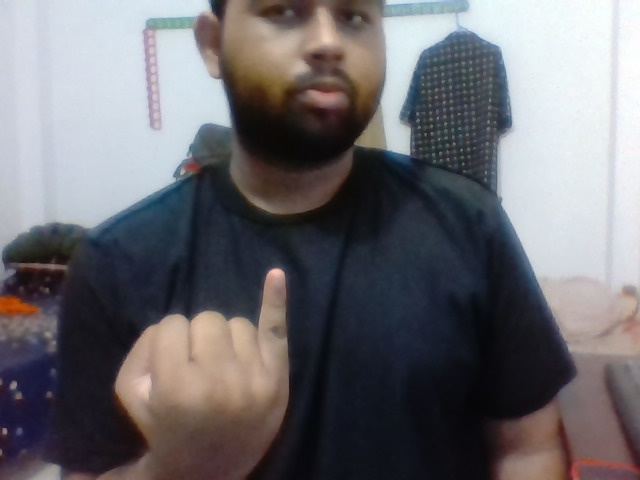I: (105, 248, 313, 463)
